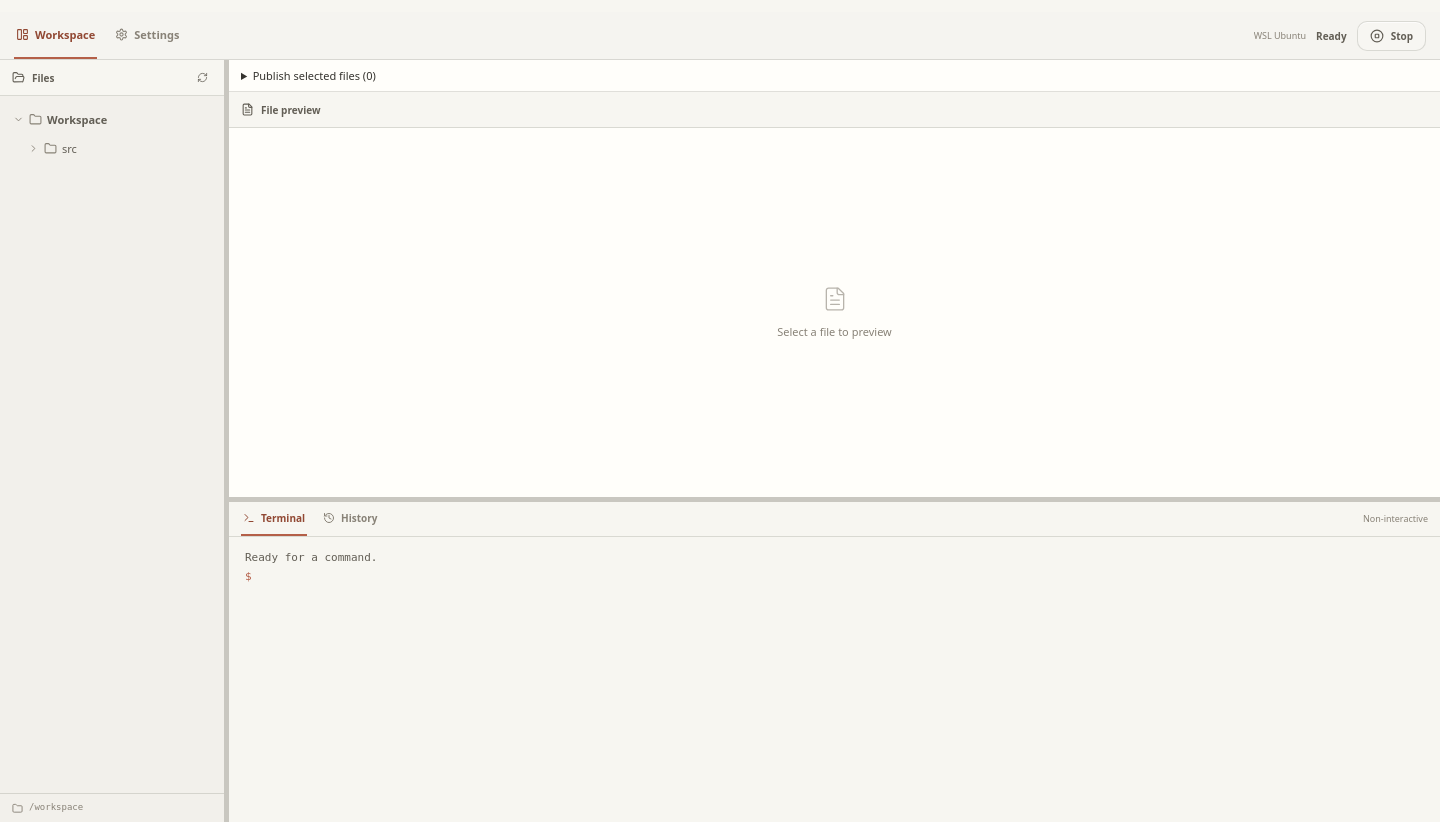
Scenario: Sandbox workspace interaction › retains a folder opened while the file tree refresh is in flight
Check: the button "src" is shown, box x1=21 y1=134 x2=218 y2=162
What coordinates should you click on to do the following:
click the button named "Refresh files"
I would click on:
 (202, 78)
Its box is x1=192 y1=68 x2=212 y2=88.
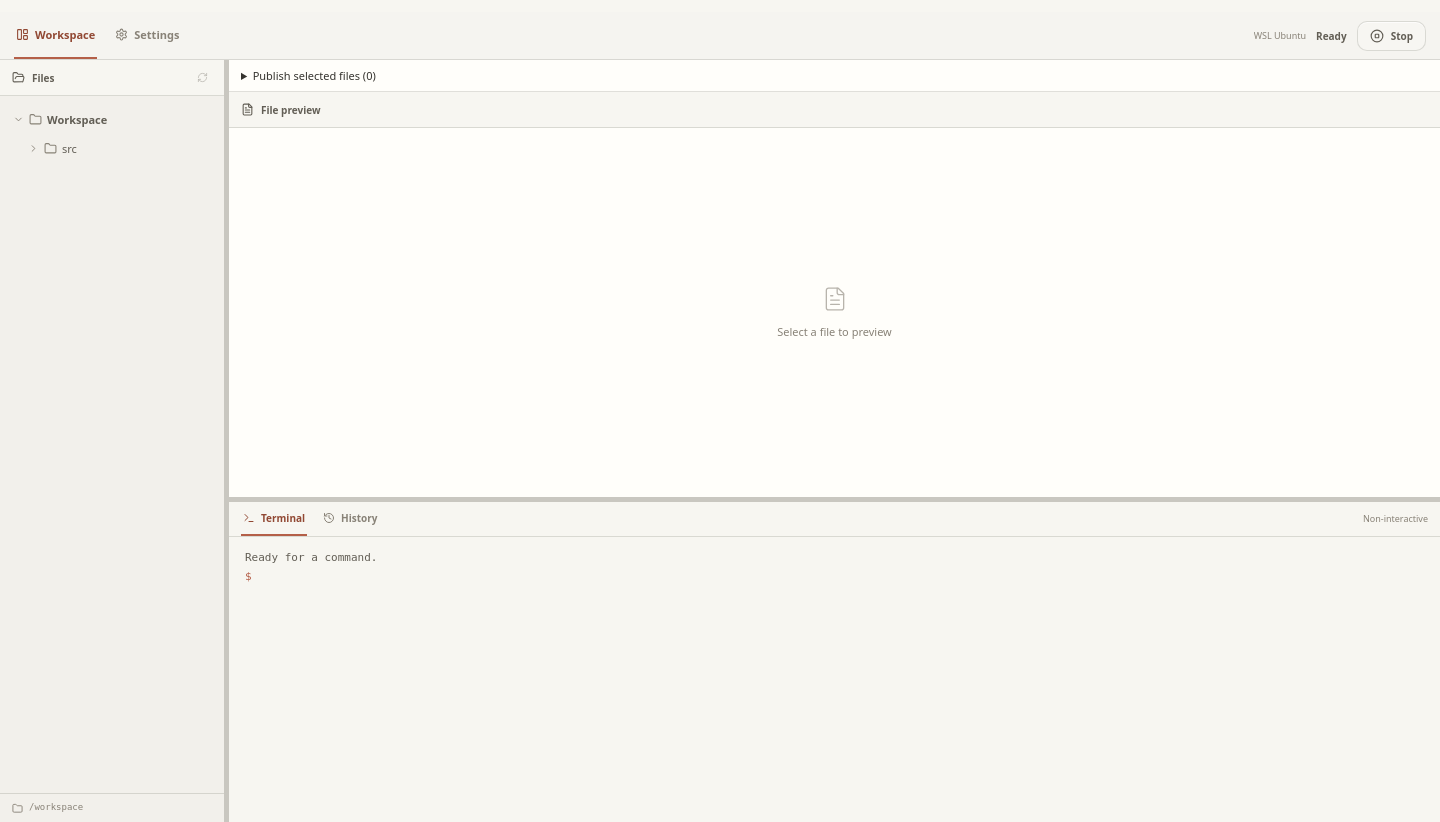
What coordinates should you click on to do the following:
click the button "src"
I would click on:
 (120, 148)
Its box is x1=21 y1=134 x2=218 y2=162.
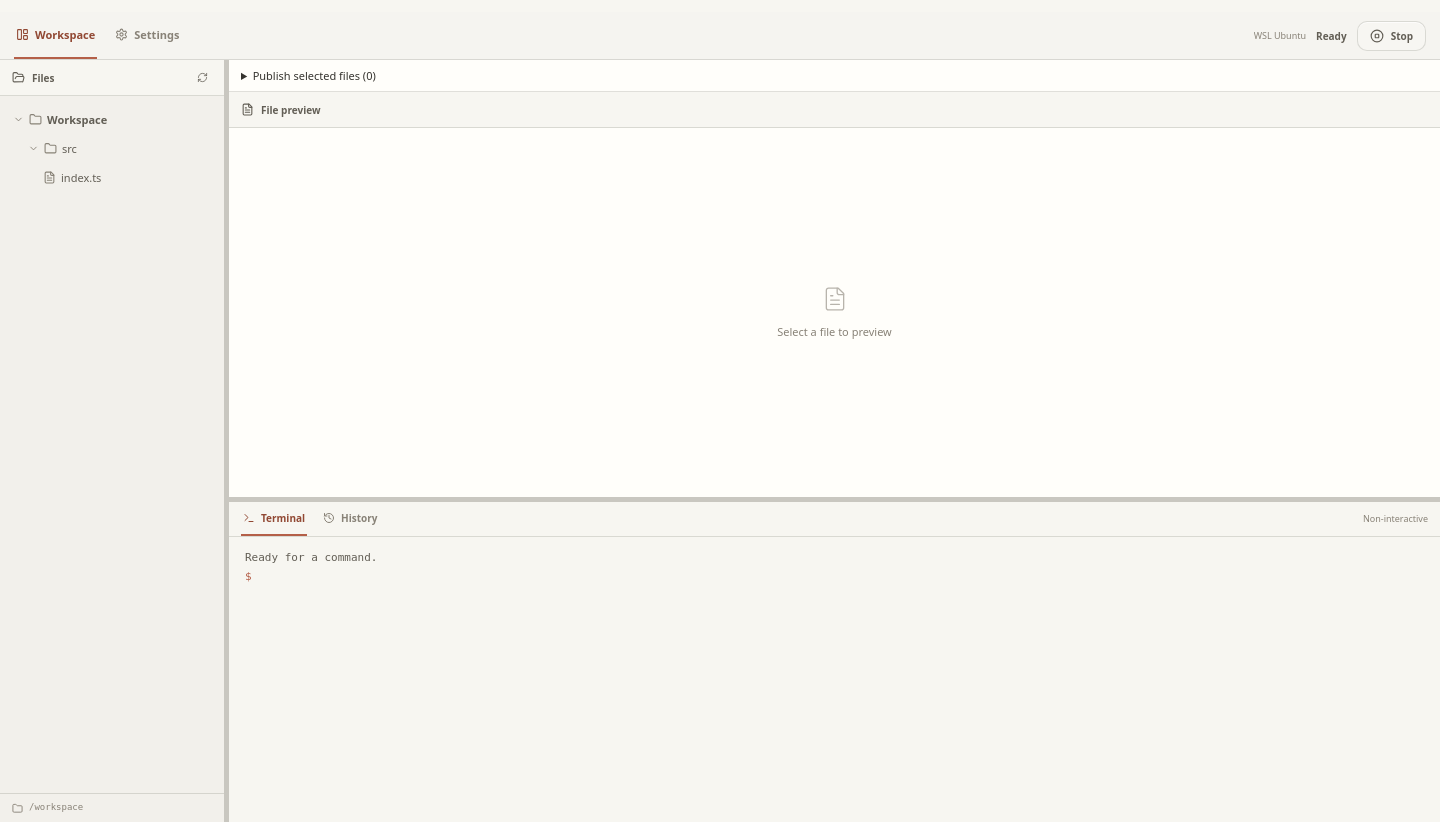
Check: the button named "Refresh files" is enabled, box x1=192 y1=68 x2=212 y2=88
Check: the button "index.ts" is shown, box x1=36 y1=163 x2=218 y2=191
